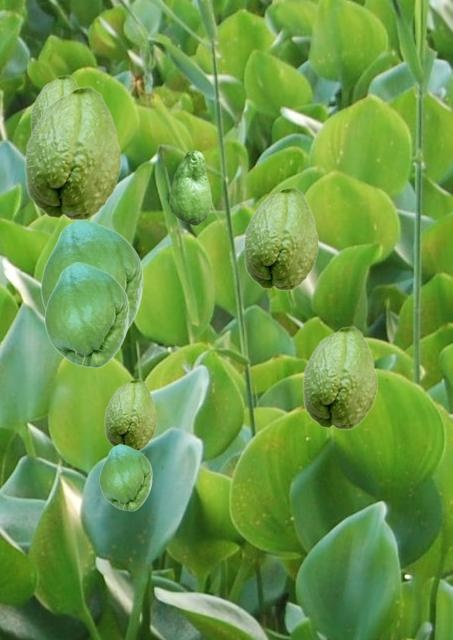sayote: (24, 85, 121, 220), (40, 220, 142, 329), (44, 262, 128, 367), (302, 325, 377, 429), (243, 186, 318, 290), (104, 378, 156, 450), (99, 444, 151, 510), (169, 150, 210, 224), (30, 74, 78, 132)
